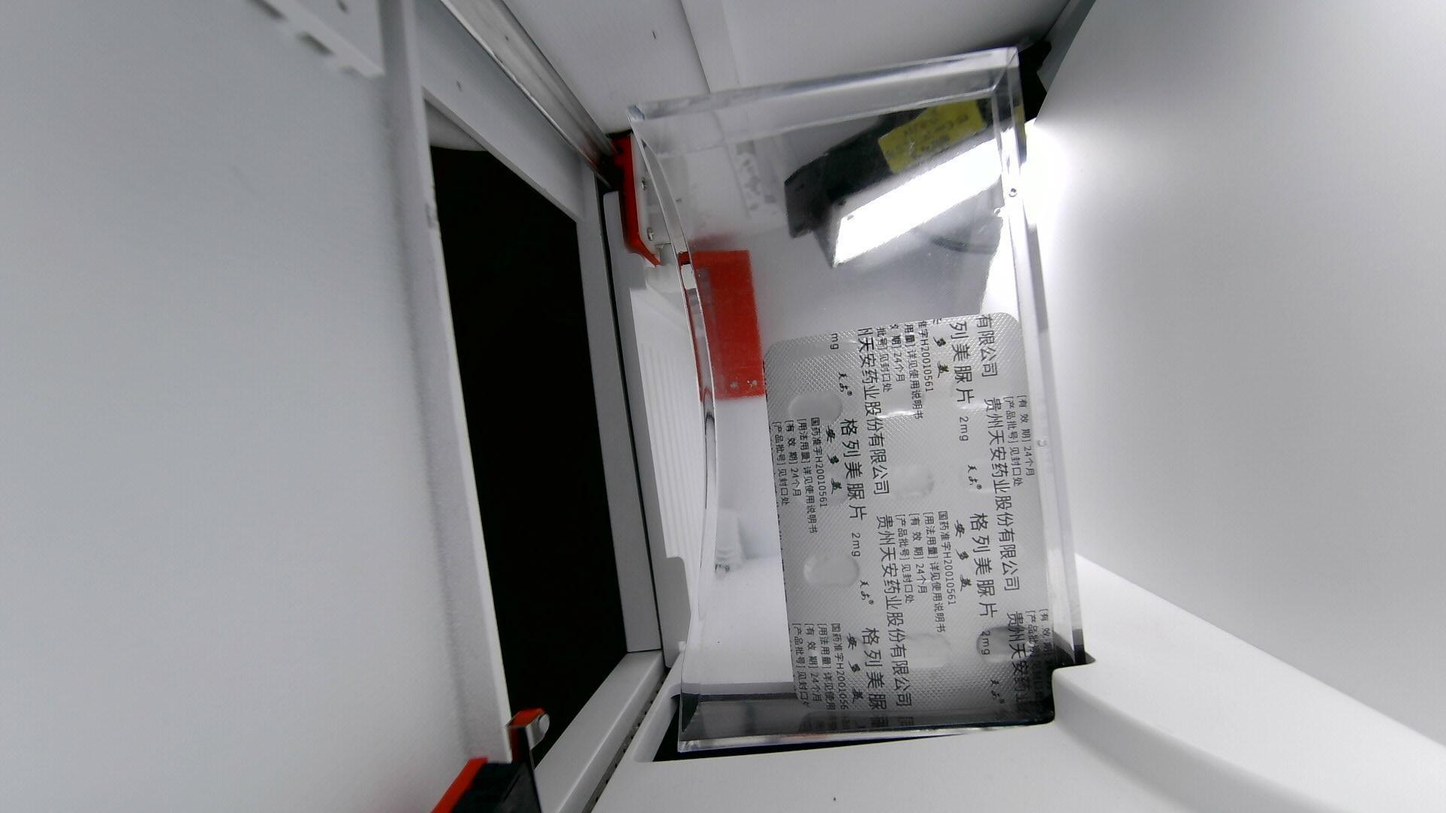Pill Back: (866, 457, 943, 501), (957, 449, 1026, 498), (888, 620, 948, 676), (791, 545, 872, 586), (804, 628, 865, 674), (786, 462, 851, 505), (868, 379, 926, 427), (964, 545, 1025, 588), (977, 624, 1041, 662), (942, 368, 1013, 402), (895, 550, 956, 586), (793, 392, 851, 424)
